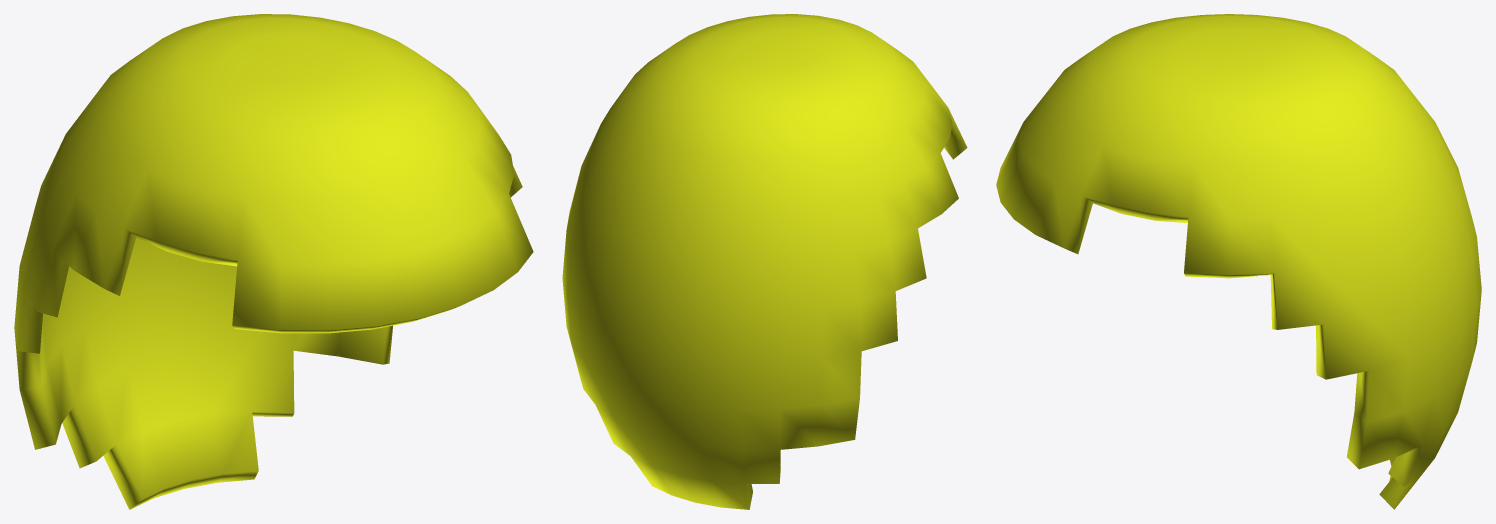
Rendered from Hair003.fbx.
The picture shows the model from 3 angles, left to right: view 1: azimuth 30°, elevation 25°; view 2: azimuth 150°, elevation 25°; view 3: azimuth 270°, elevation 25°; orthographic projection. The views are drawn at different scales.
Visible parts, largest first — view 1: Head.001; view 2: Head.001; view 3: Head.001.
Boxes of the visible parts, <box> form: Head.001: <box>14,14,533,509</box>; Head.001: <box>562,14,967,509</box>; Head.001: <box>996,14,1481,509</box>.
Size of the model in its own units: 274 by 298 by 301.
